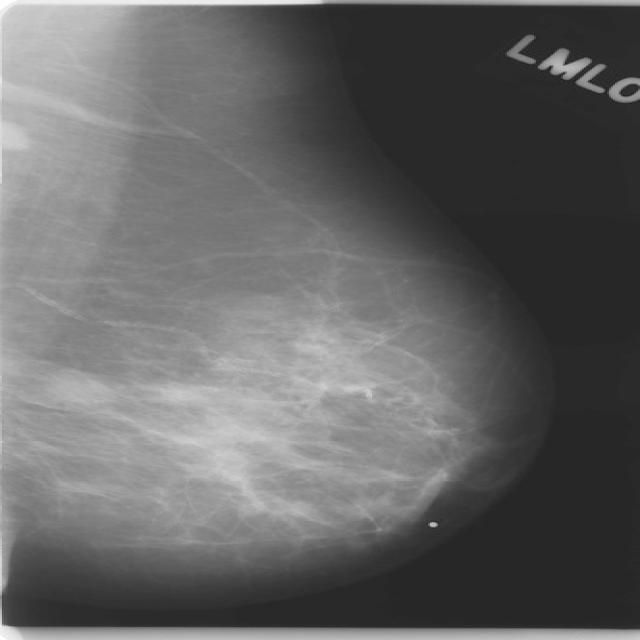tumour: (40, 366, 108, 404), (0, 120, 31, 151)
